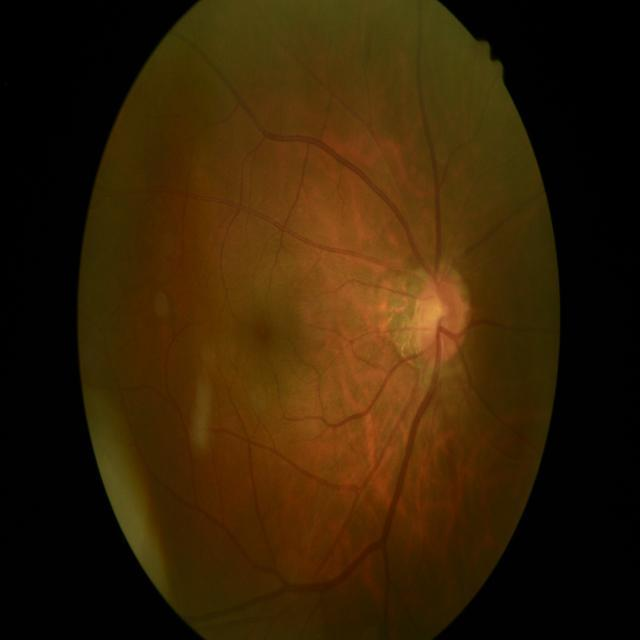cup: (422, 284, 448, 352)
disk: (412, 261, 470, 361)
